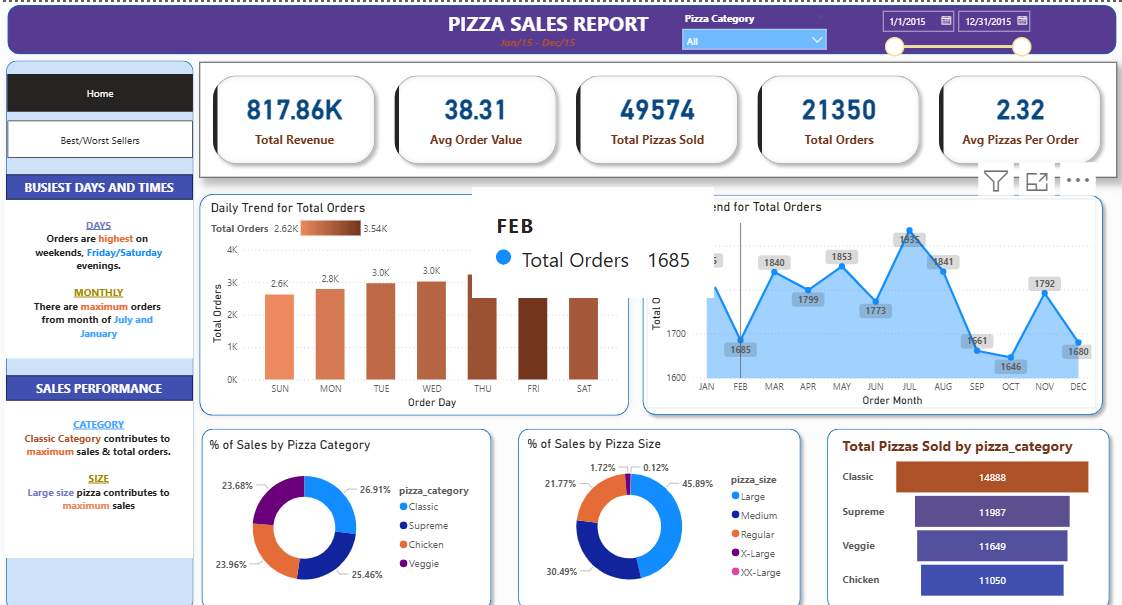

Layout of this report page (visuals, bound fields, positions):
{"tool":"powerbi","page":{"name":"Home","canvas":[1500,820],"ordinal":0},"visuals":[{"type":"shape","box":[0,70,266,750],"z":0},{"type":"cardVisual","fields":{"Data":["pizza_sales.Total Revenue","pizza_sales.Avg Order Value","pizza_sales.Total Pizzas Sold","pizza_sales.Total Orders","pizza_sales.Avg Pizzas Per Order"]},"box":[266,80,1223,154],"z":1000},{"type":"shape","box":[10,4.3,1478.6,65.7],"z":2000},{"type":"textbox","box":[577.1,4.3,305.7,48.6],"z":3000},{"type":"textbox","box":[662.9,38.6,127.1,31.4],"z":4000},{"type":"shape","box":[258.6,248.6,588.6,311.4],"z":5000},{"type":"columnChart","title":"Daily Trend for Total Orders","fields":{"Category":["pizza_sales.Order Day"],"Y":["pizza_sales.Total Orders"]},"box":[275,263,555,282],"z":6000},{"type":"shape","box":[847.1,248.6,631.4,311.4],"z":7000},{"type":"areaChart","title":"Monthly Trend for Total Orders","fields":{"Category":["pizza_sales.Order Month"],"Y":["pizza_sales.Total Orders"]},"box":[862.9,261.4,598.6,281.4],"z":8000},{"type":"shape","box":[259,560,404,260],"z":9000},{"type":"shape","box":[681.4,560,394.3,260],"z":10000},{"type":"shape","box":[1094.3,560,394.3,260],"z":11000},{"type":"donutChart","title":"% of Sales by Pizza Category","fields":{"Category":["pizza_sales.pizza_category"],"Y":["pizza_sales.Total Revenue"]},"box":[274,579,372,222],"z":12000},{"type":"donutChart","title":"% of Sales by Pizza Size","fields":{"Y":["pizza_sales.Total Revenue"],"Category":["pizza_sales.pizza_size"]},"box":[698.6,578.6,361.4,222.9],"z":13000},{"type":"funnel","fields":{"Y":["pizza_sales.Total Pizzas Sold"],"Category":["pizza_sales.pizza_category"]},"box":[1118.6,578.6,342.9,222.9],"z":14000},{"type":"textbox","box":[8,230,249,33],"z":15000},{"type":"textbox","box":[6,263,251,211],"z":16000},{"type":"textbox","box":[6,530,251,211],"z":17000},{"type":"textbox","box":[8,497,249,33],"z":18000},{"type":"slicer","fields":{"Values":["pizza_sales.pizza_category"]},"box":[899,6,212,64],"z":19000},{"type":"slicer","fields":{"Values":["pizza_sales.order_date"]},"box":[1163,1,219,74],"z":20000},{"type":"pageNavigator","box":[10,95,247,50],"z":21000},{"type":"pageNavigator","box":[10,157,247,50],"z":22000}]}

Visuals, with their boxes on the page's 1500x820 design canvas (x1, y1, x2, y2). These are canvas units, not pixel positions in the 1122x605 screenshot, which may show the page scaled, cropped or inside an application window:
shape: box(0, 70, 266, 820)
cardVisual - pizza_sales.Total Revenue x pizza_sales.Avg Order Value: box(266, 80, 1489, 234)
shape: box(10, 4, 1489, 70)
textbox: box(577, 4, 883, 53)
textbox: box(663, 39, 790, 70)
shape: box(259, 249, 847, 560)
"Daily Trend for Total Orders" columnChart: box(275, 263, 830, 545)
shape: box(847, 249, 1478, 560)
"Monthly Trend for Total Orders" areaChart: box(863, 261, 1462, 543)
shape: box(259, 560, 663, 820)
shape: box(681, 560, 1076, 820)
shape: box(1094, 560, 1489, 820)
"% of Sales by Pizza Category" donutChart: box(274, 579, 646, 801)
"% of Sales by Pizza Size" donutChart: box(699, 579, 1060, 802)
funnel - pizza_sales.Total Pizzas Sold x pizza_sales.pizza_category: box(1119, 579, 1462, 802)
textbox: box(8, 230, 257, 263)
textbox: box(6, 263, 257, 474)
textbox: box(6, 530, 257, 741)
textbox: box(8, 497, 257, 530)
slicer - pizza_sales.pizza_category: box(899, 6, 1111, 70)
slicer - pizza_sales.order_date: box(1163, 1, 1382, 75)
pageNavigator: box(10, 95, 257, 145)
pageNavigator: box(10, 157, 257, 207)
